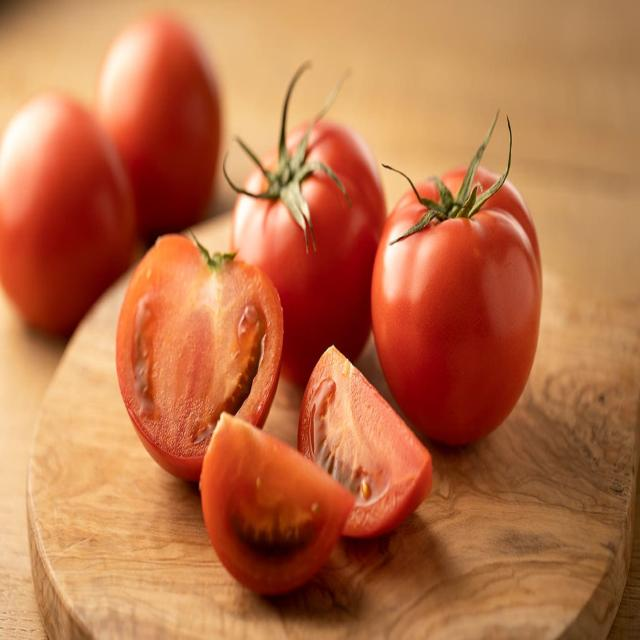Tomato: (370, 165, 545, 449), (110, 218, 290, 482), (226, 115, 391, 394), (196, 403, 355, 603), (297, 342, 436, 547)
